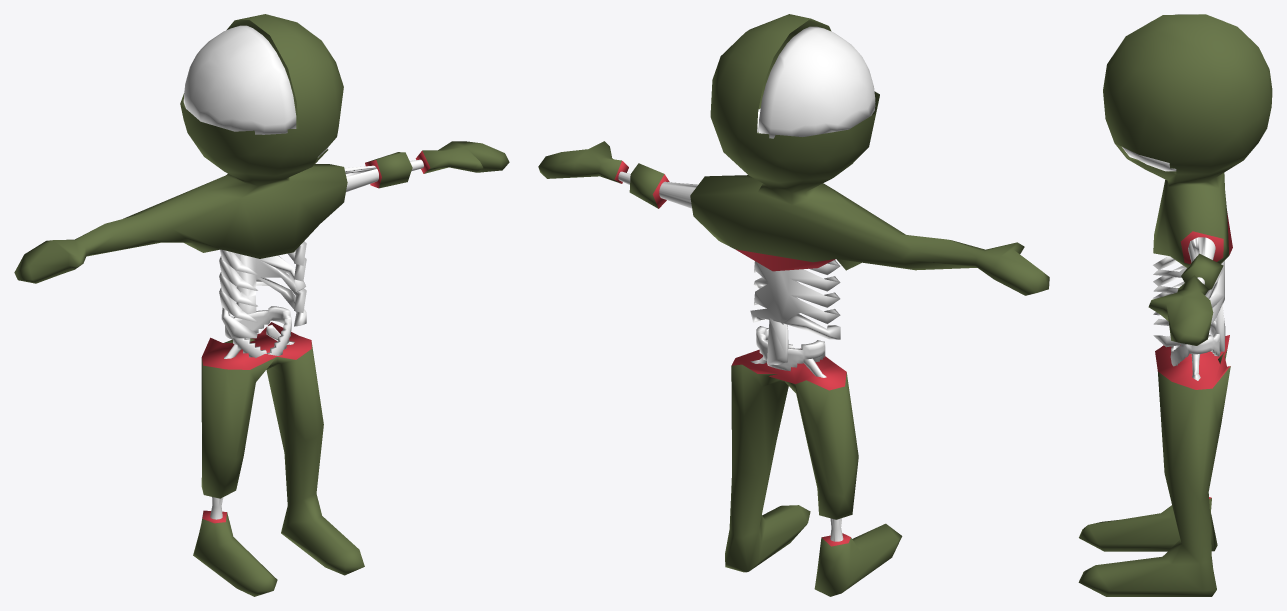
Rendered from Skeleton.fbx.
The picture shows the model from 3 angles, left to right: view 1: azimuth 30°, elevation 25°; view 2: azimuth 150°, elevation 25°; view 3: azimuth 270°, elevation 25°; orthographic projection. The views are drawn at different scales.
Visible parts, largest first — view 1: Character Body, Skull Bone, Rib Cage, Hip Bone, Hand Bone; view 2: Character Body, Skull Bone, Rib Cage, Hip Bone, Hand Bone; view 3: Character Body, Rib Cage, Hip Bone, Hand Bone, Face Bone.
Part boxes in pixels (x1,y1,x2,y2): Character Body: [14, 14, 509, 596]; Skull Bone: [183, 25, 296, 134]; Rib Cage: [219, 241, 306, 338]; Hip Bone: [225, 306, 291, 358]; Hand Bone: [344, 159, 423, 191]; Character Body: [538, 14, 1049, 596]; Skull Bone: [758, 26, 875, 138]; Rib Cage: [750, 260, 840, 364]; Hip Bone: [756, 326, 825, 371]; Hand Bone: [618, 171, 697, 208]; Character Body: [1078, 14, 1272, 596]; Rib Cage: [1153, 248, 1225, 351]; Hip Bone: [1170, 320, 1220, 366]; Hand Bone: [1188, 237, 1215, 284]; Face Bone: [1122, 147, 1176, 171].
Bounding box in the file's own units: 440 × 457 × 145.
